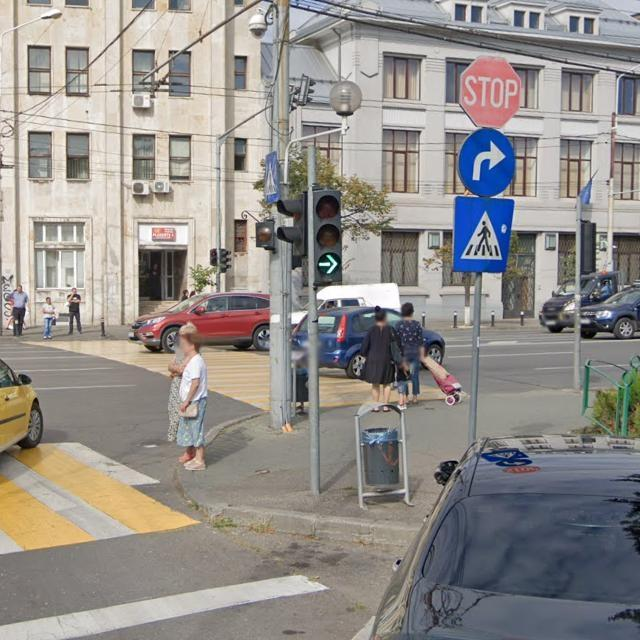info_crosswalk: (452, 194, 515, 272)
prio_stop: (456, 55, 524, 131)
